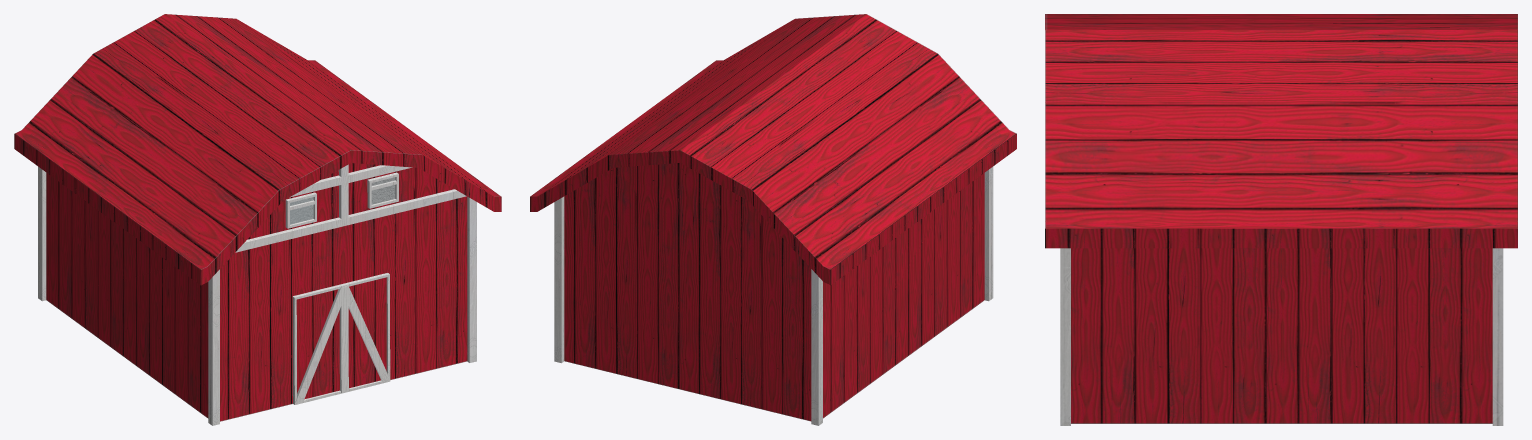
File: BarnHouse.FBX
The picture shows the model from 3 angles, left to right: view 1: azimuth 30°, elevation 25°; view 2: azimuth 150°, elevation 25°; view 3: azimuth 270°, elevation 25°; orthographic projection. The views are drawn at different scales.
Parts seen in each view (by area): view 1: Box002, Box001, Box014, Box007, Box003, Box004, Box005, Box017, Box015, Box008, Box016, Box012 (+2 smaller); view 2: Box001, Box002, Box005, Box006, Box003; view 3: Box002, Box001, Box006, Box004.
Boxes of the visible parts, bbox=[...] form: Box002: bbox=[14, 14, 501, 285]; Box001: bbox=[46, 163, 467, 421]; Box014: bbox=[292, 273, 390, 404]; Box007: bbox=[235, 189, 466, 252]; Box003: bbox=[208, 269, 219, 425]; Box004: bbox=[467, 196, 476, 362]; Box005: bbox=[38, 166, 46, 301]; Box017: bbox=[295, 286, 344, 403]; Box015: bbox=[339, 286, 348, 393]; Box008: bbox=[289, 165, 412, 197]; Box016: bbox=[342, 285, 389, 383]; Box012: bbox=[367, 172, 398, 208]; Box001: bbox=[564, 163, 984, 421]; Box002: bbox=[530, 14, 1016, 285]; Box005: bbox=[811, 269, 822, 425]; Box006: bbox=[554, 196, 564, 363]; Box003: bbox=[984, 166, 993, 301]; Box002: bbox=[1045, 14, 1517, 248]; Box001: bbox=[1071, 248, 1492, 423]; Box006: bbox=[1492, 248, 1503, 425]; Box004: bbox=[1060, 248, 1070, 425].
Size of the model in its own units: 205 by 161 by 220.
3 materials, 3 textured.
